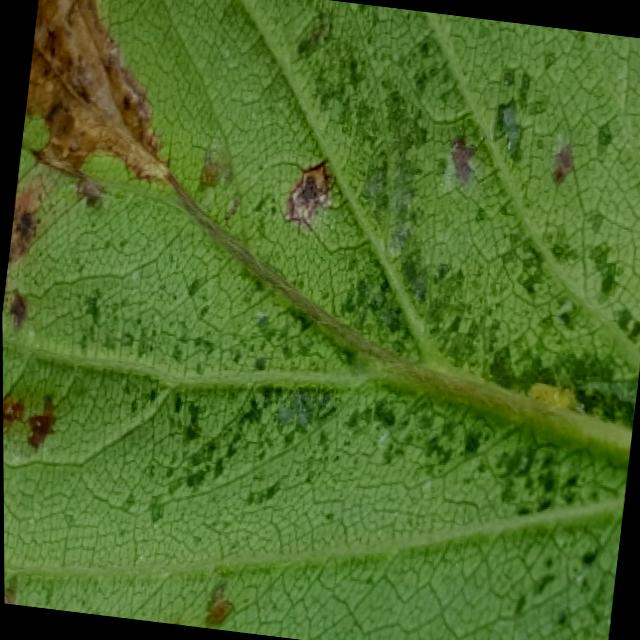Angular Leafspot: (2, 0, 640, 640)
